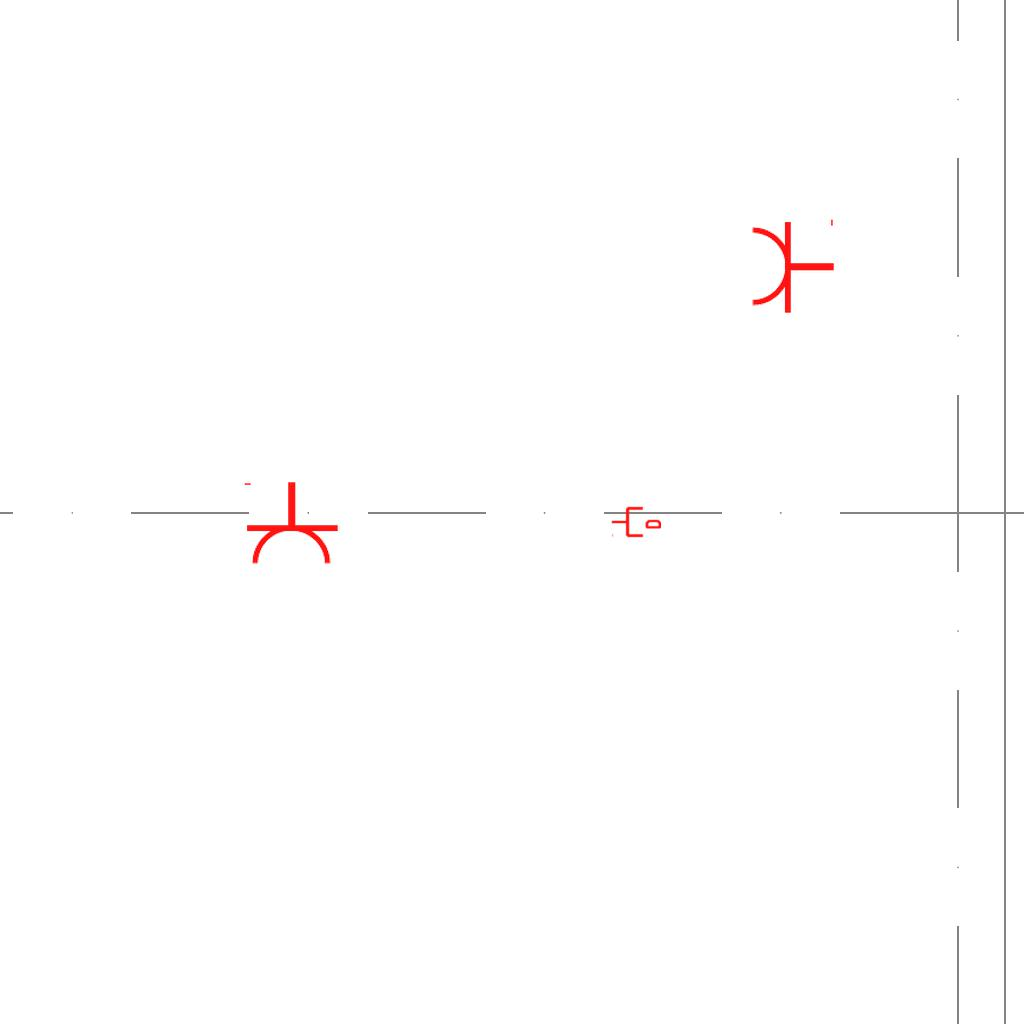Datenanschluss_einfach: (611, 505, 661, 539)
Schukosteckdose_einfach: (240, 480, 340, 567), (749, 215, 836, 315)
